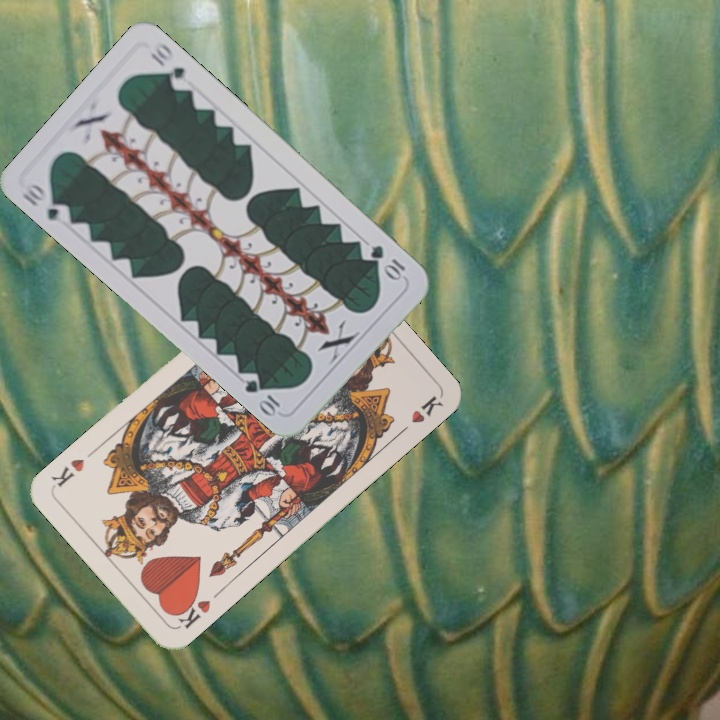G10: (17, 179, 74, 224), (366, 240, 408, 284)
HK: (170, 591, 213, 632)
